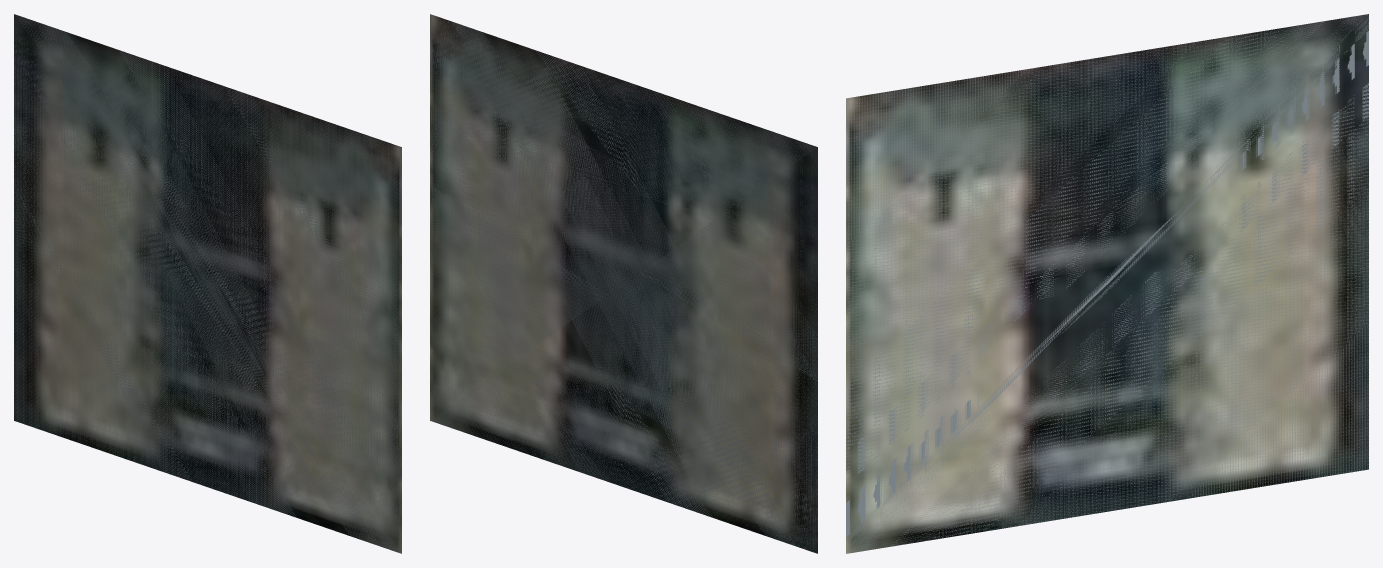
Rendered from 西庸城堡411.dae.
The picture shows the model from 3 angles, left to right: view 1: azimuth 30°, elevation 25°; view 2: azimuth 210°, elevation 25°; view 3: azimuth 270°, elevation 25°; orthographic projection. The views are drawn at different scales.
Parts seen in each view (by area): view 1: SketchUp; view 2: SketchUp; view 3: SketchUp.
Boxes of the visible parts, x1,y1,x2,y2 form: SketchUp: (14, 14, 401, 553); SketchUp: (430, 14, 817, 553); SketchUp: (846, 14, 1368, 553).
Size of the model in its own units: 44.96 by 118 by 113.
